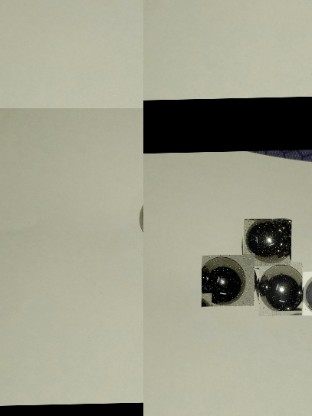ironball: (201, 255, 255, 308), (259, 263, 302, 317), (243, 220, 290, 268), (302, 273, 311, 317)
